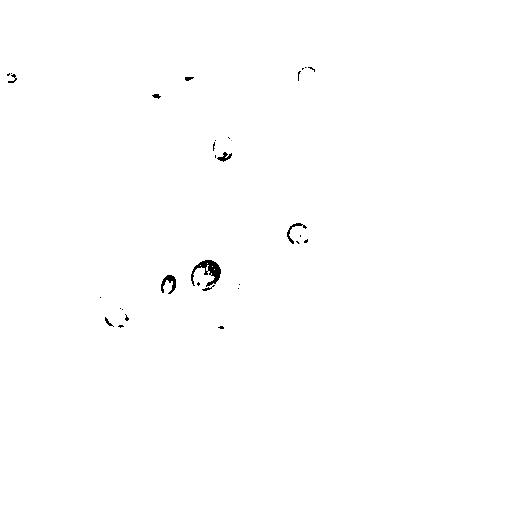micro-algae: (459, 355, 509, 408), (305, 93, 352, 134), (30, 55, 68, 93), (190, 260, 221, 292), (211, 133, 235, 163), (285, 221, 311, 247), (236, 274, 258, 304), (103, 305, 130, 327), (86, 278, 112, 300), (296, 64, 317, 90), (160, 274, 178, 296), (181, 71, 198, 86), (3, 71, 18, 83)
